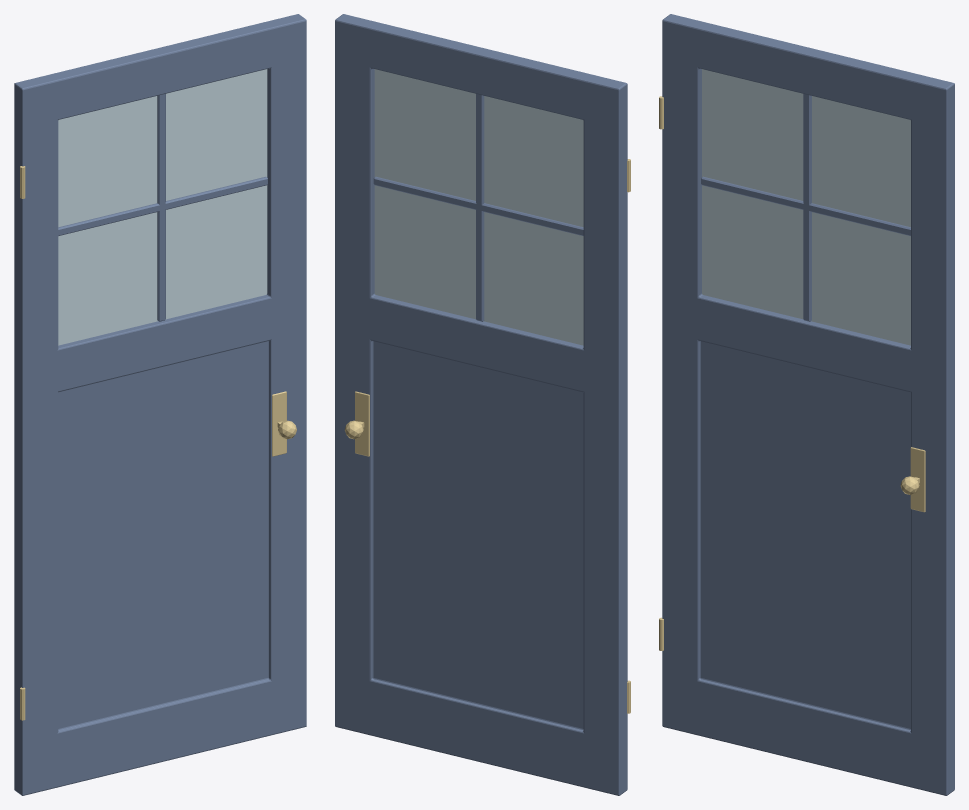
File: door_leaf_entrance.glb
3 renders of one model, left to right at view 1: azimuth 30°, elevation 25°; view 2: azimuth 150°, elevation 25°; view 3: azimuth 330°, elevation 25°, orthographic.
Visible parts, largest first — view 1: door_leaf_entrance_door, door_leaf_entrance_glass, door_leaf_entrance_brass; view 2: door_leaf_entrance_door, door_leaf_entrance_glass, door_leaf_entrance_brass; view 3: door_leaf_entrance_door, door_leaf_entrance_glass, door_leaf_entrance_brass.
Boxes of the visible parts, left/top/right/bottom form: door_leaf_entrance_door: left=14, top=14, right=306, bottom=795; door_leaf_entrance_glass: left=58, top=69, right=267, bottom=345; door_leaf_entrance_brass: left=20, top=166, right=296, bottom=720; door_leaf_entrance_door: left=335, top=14, right=627, bottom=795; door_leaf_entrance_glass: left=374, top=69, right=583, bottom=345; door_leaf_entrance_brass: left=344, top=159, right=630, bottom=713; door_leaf_entrance_door: left=662, top=14, right=954, bottom=795; door_leaf_entrance_glass: left=702, top=69, right=910, bottom=345; door_leaf_entrance_brass: left=659, top=96, right=925, bottom=650.
Size of the model in its own units: 0.968 by 2.28 by 0.206.
